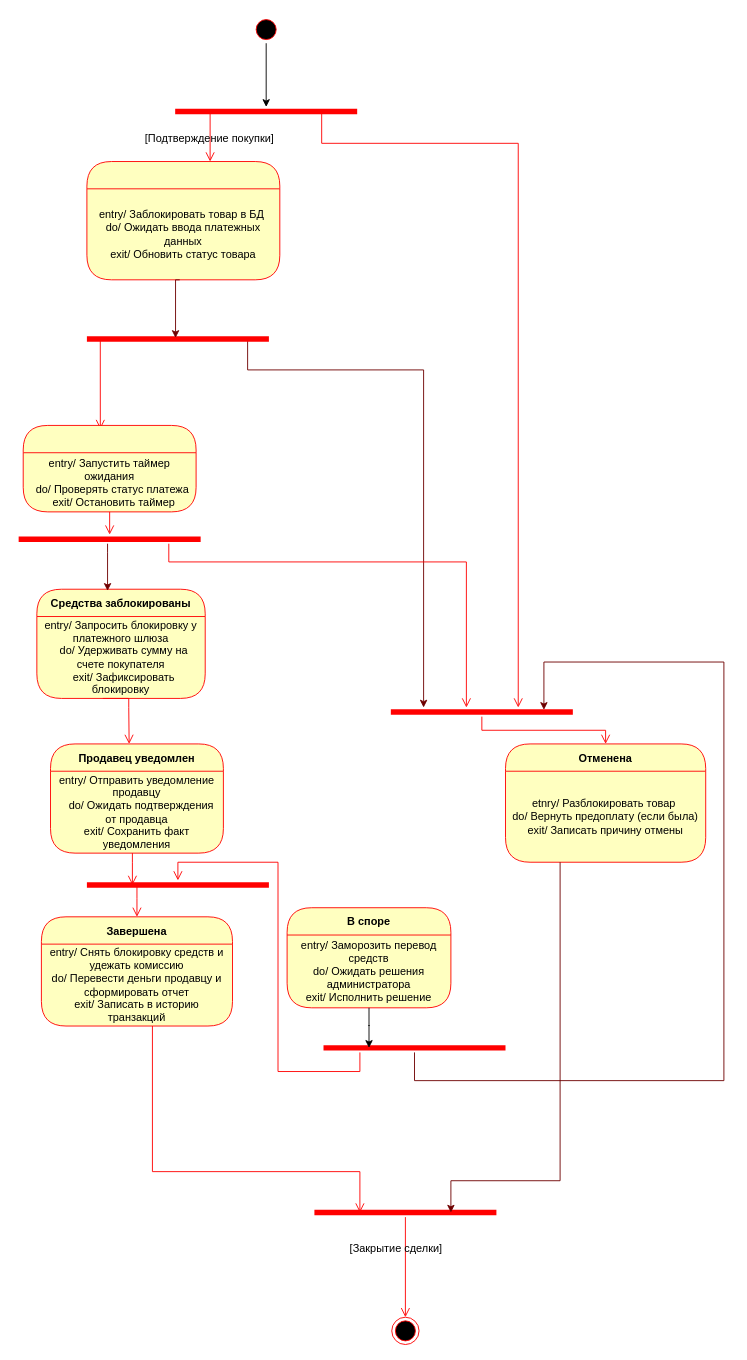
This 747x1360 diagram has some shape labels left out. Each missing label, with the box of its shape:
Ожидание оплаты: (22, 425, 196, 512)
Товар зарезервирован: (86, 161, 280, 280)
